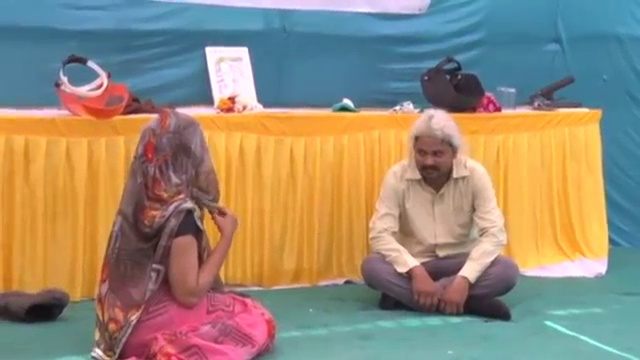helmet_off: (131, 112, 221, 201), (408, 111, 460, 186)
person: (91, 110, 276, 360), (356, 106, 521, 327)
